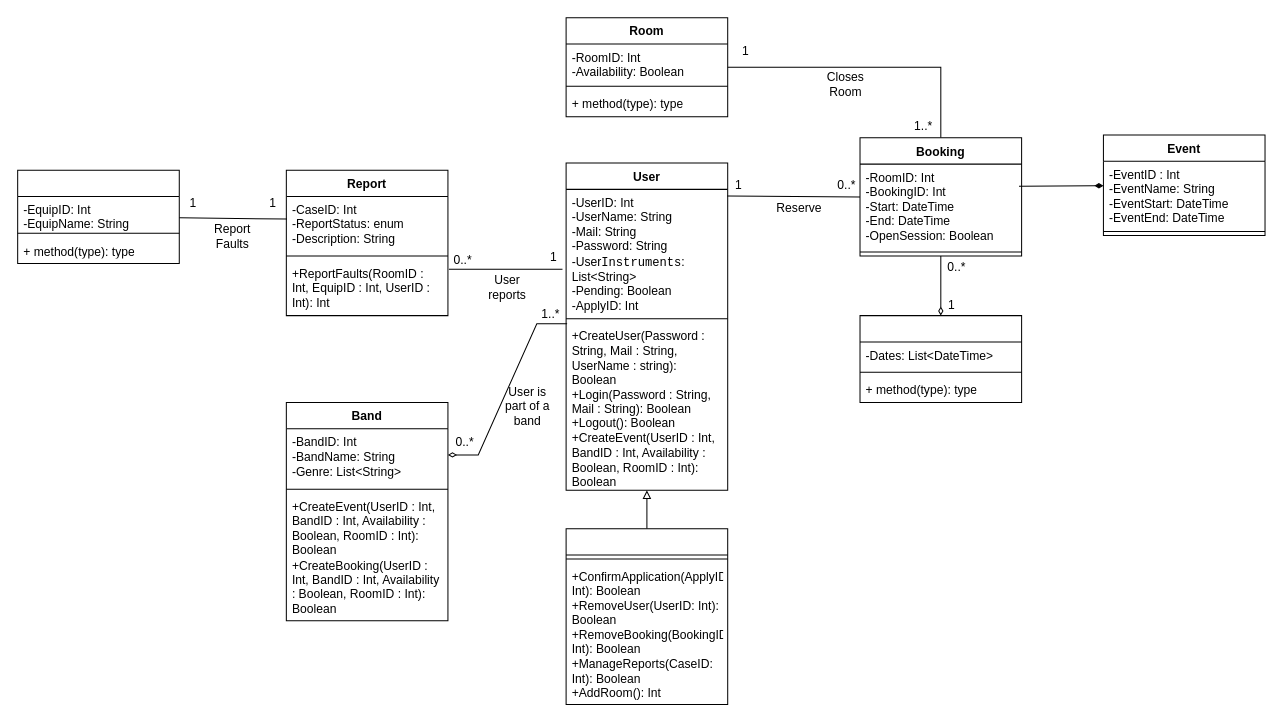
The diagram is 1283 pixels wide and 725 high, and some of its shapes have lost their labels. The box of each missing label's shape, as (x1, y1, x2, y2) in pixels:
Administrator: (565, 528, 728, 704)
Calendar: (859, 315, 1022, 402)
Equipment: (17, 169, 179, 264)
